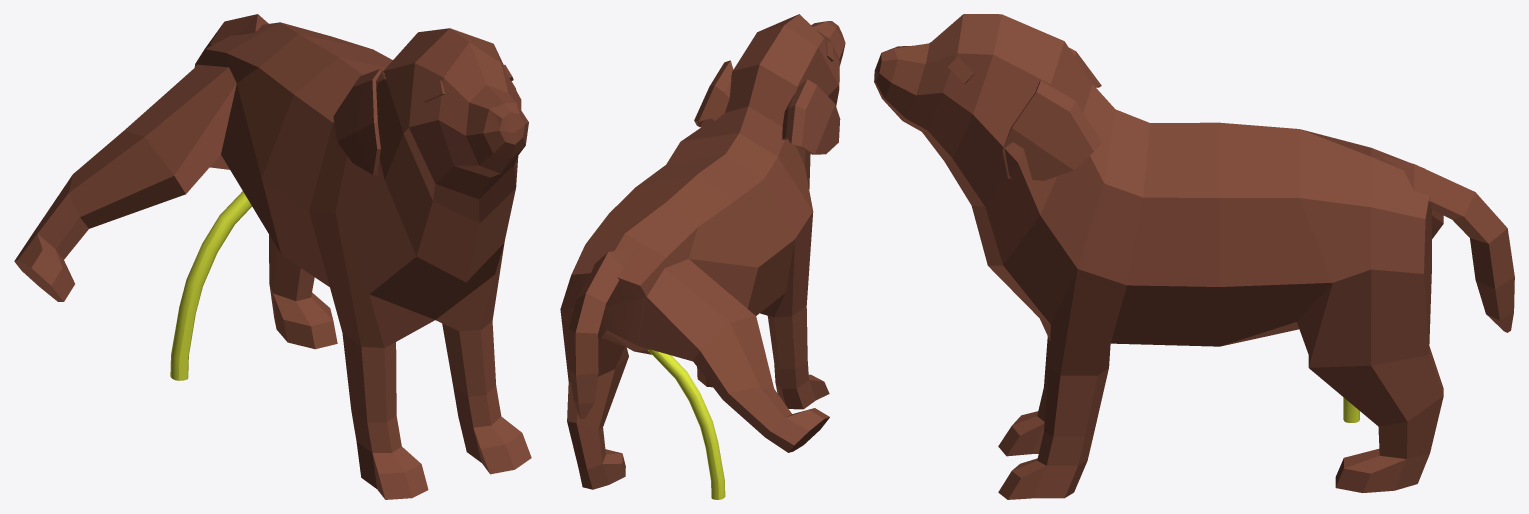
Rendered from CACHORRO.fbx.
3 views of the same model, side by side, from view 1: azimuth 30°, elevation 25°; view 2: azimuth 150°, elevation 25°; view 3: azimuth 270°, elevation 25° (orthographic). The views are drawn at different scales.
Parts seen in each view (by area): view 1: Mesh_Puppy, Cube; view 2: Mesh_Puppy, Cube; view 3: Mesh_Puppy.
Part boxes in pixels (<box>): Mesh_Puppy: <box>14,14,531,499</box>; Cube: <box>170,191,251,380</box>; Mesh_Puppy: <box>560,14,845,489</box>; Cube: <box>648,349,725,499</box>; Mesh_Puppy: <box>874,14,1514,499</box>.
Size of the model in its own units: 4646 by 6046 by 7778.
